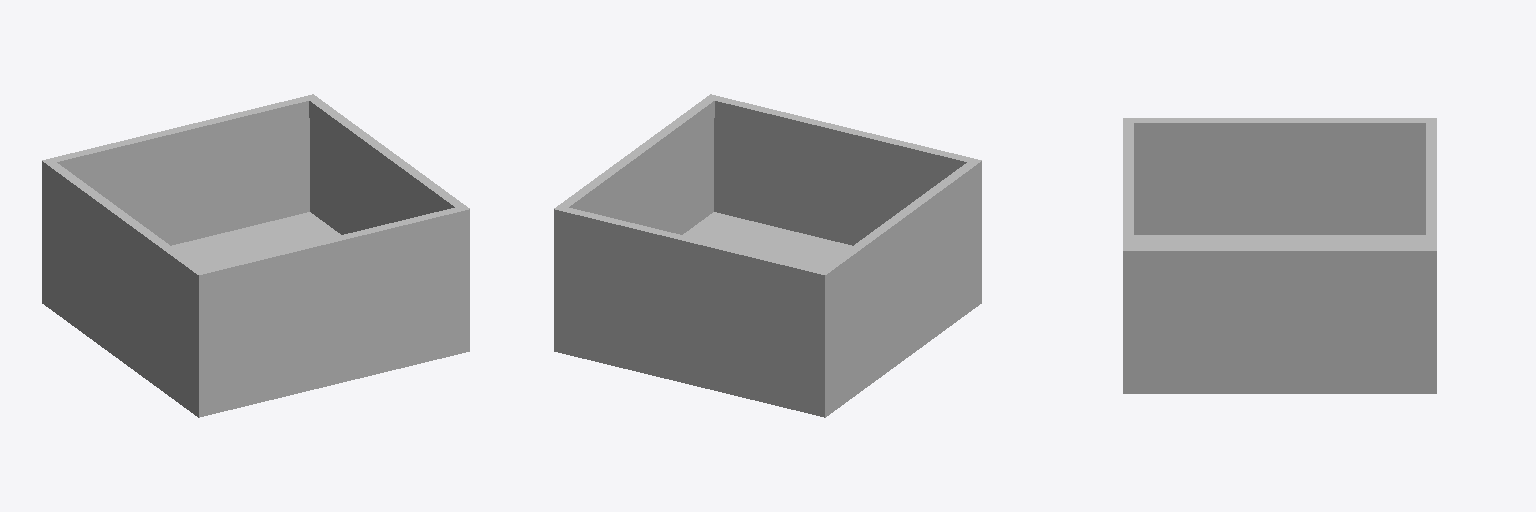
File: tank2.obj
The picture shows the model from 3 angles: view 1: azimuth 30°, elevation 25°; view 2: azimuth 150°, elevation 25°; view 3: azimuth 270°, elevation 25°; orthographic projection.
Parts seen in each view (by area): view 1: Cube, Cube.001_Cube.002; view 2: Cube, Cube.001_Cube.002; view 3: Cube, Cube.001_Cube.002.
Boxes of the visible parts, x1=… form: Cube: x1=42, y1=94, x2=469, y2=417; Cube.001_Cube.002: x1=172, y1=212, x2=340, y2=268; Cube: x1=554, y1=94, x2=981, y2=417; Cube.001_Cube.002: x1=683, y1=212, x2=851, y2=268; Cube: x1=1123, y1=118, x2=1436, y2=393; Cube.001_Cube.002: x1=1134, y1=235, x2=1425, y2=246.
Bounding box in the file's own units: 52 × 26 × 52.